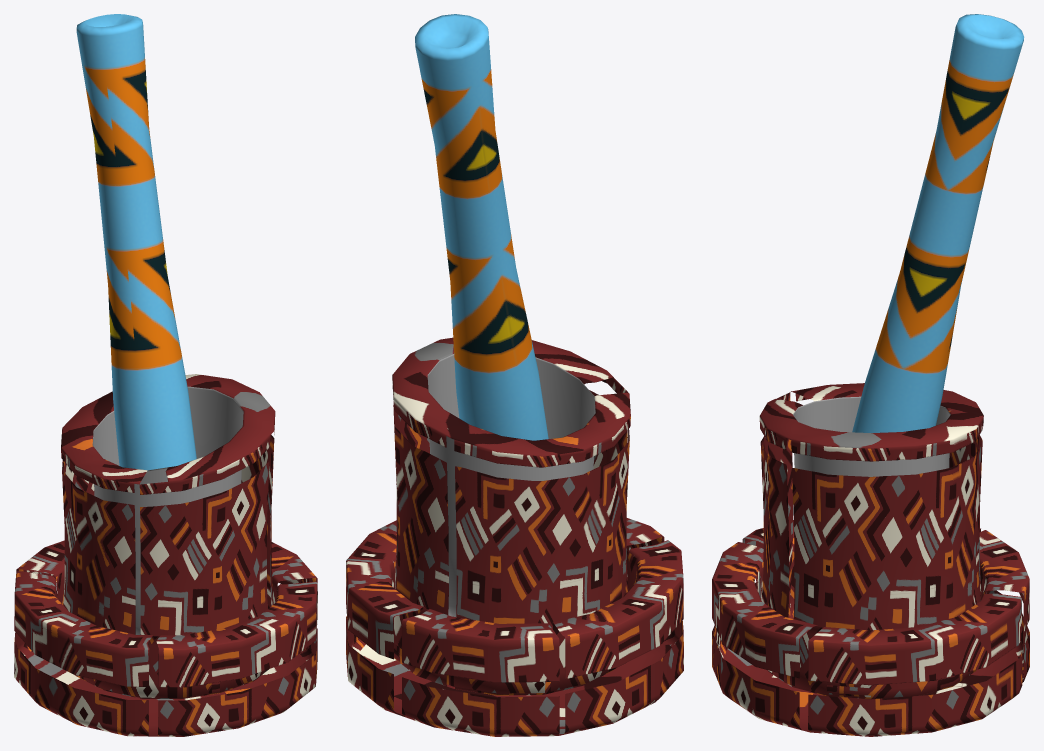
File: Mortar_Pestel.fbx
3 renders of one model, left to right at view 1: azimuth 30°, elevation 25°; view 2: azimuth 150°, elevation 25°; view 3: azimuth 270°, elevation 25°, orthographic. The views are drawn at different scales.
Parts seen in each view (by area): view 1: grinder; view 2: grinder; view 3: grinder.
Boxes of the visible parts, x1,y1,x2,y2 form: grinder: [14, 14, 317, 736]; grinder: [346, 14, 683, 736]; grinder: [712, 14, 1029, 736].
Bounding box in the file's own units: 258 × 586 × 258.
